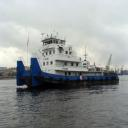tugboat: (17, 32, 122, 93)
